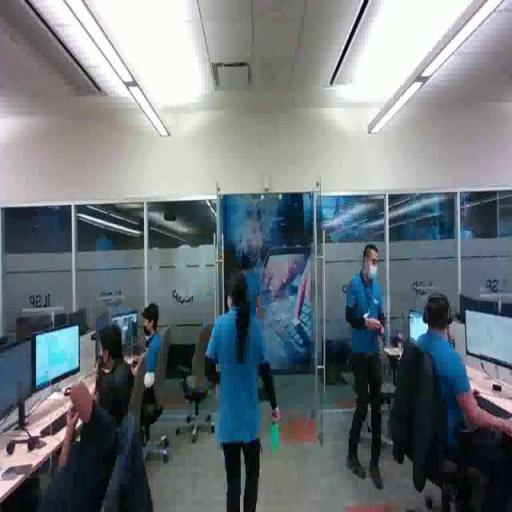person: (407, 287, 512, 504), (53, 318, 163, 512), (203, 266, 278, 512), (344, 241, 391, 494), (103, 303, 179, 457)
